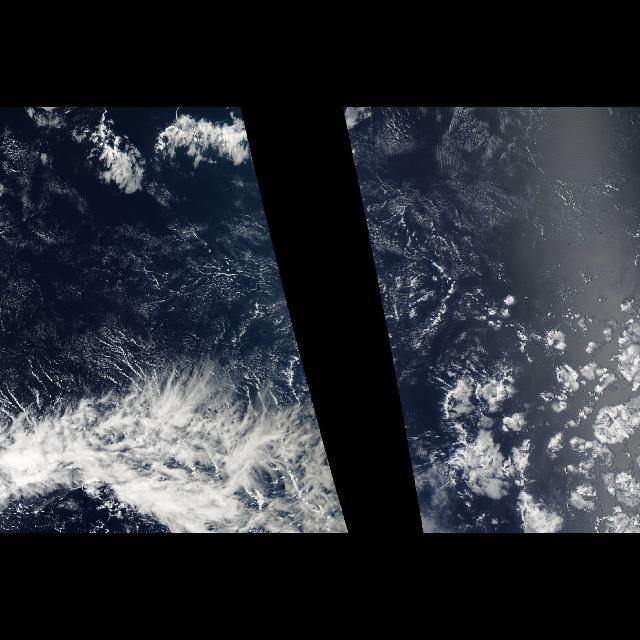Fish: (11, 321, 348, 533), (386, 322, 390, 358)
Flower: (406, 293, 640, 533)
Gravel: (355, 122, 519, 354)
Sugar: (2, 159, 300, 391), (351, 108, 575, 346)
